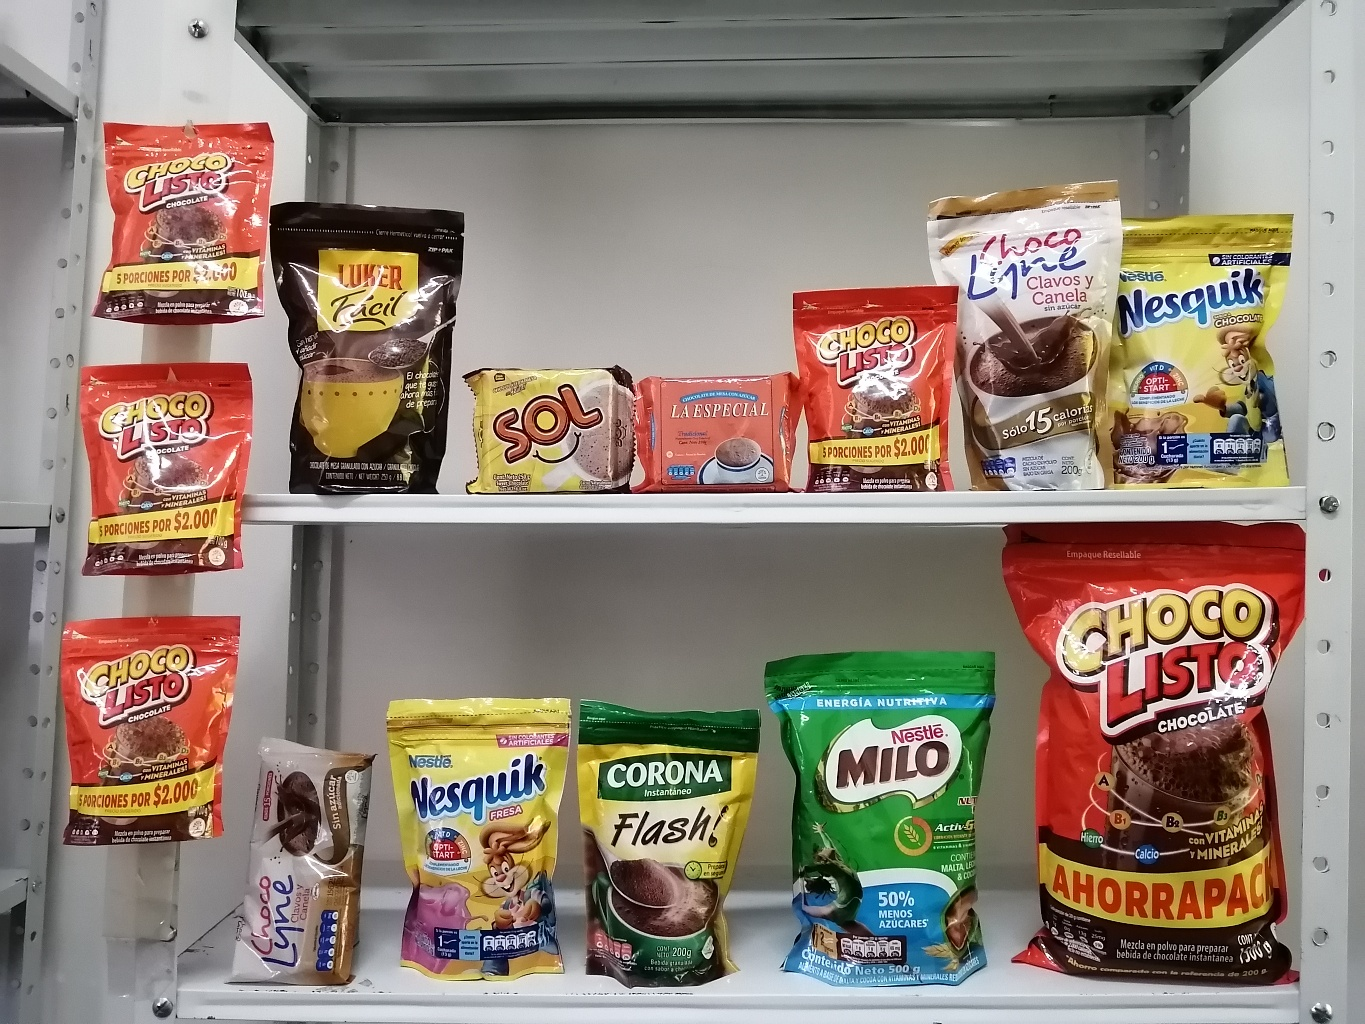COL0170103DYP1,500: (1003, 523, 1330, 984)
COL0170205DYP50000: (768, 634, 1019, 980)
COL0170303DYP20000: (1109, 203, 1313, 492)
COL0170305DYP20000: (376, 691, 581, 983)
